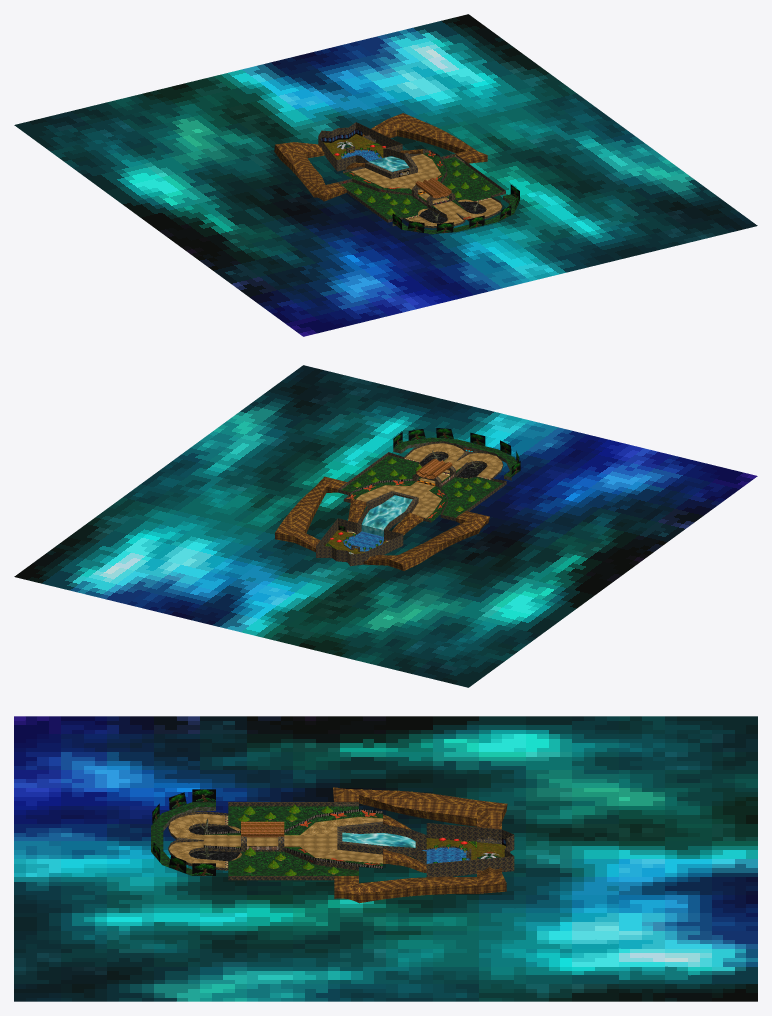
The picture shows the model from 3 angles, top to bottom: view 1: azimuth 30°, elevation 25°; view 2: azimuth 150°, elevation 25°; view 3: azimuth 270°, elevation 25°; orthographic projection. The views are drawn at different scales.
Parts seen in each view (by area): view 1: course-SKP--fondo.002, course-SKP--murocueva.001, course-SKP--pasto.001, course-SKP--muro.003, course-SKP--tierra.001, course-SKP--semiii.001, course-SKP--pastoabajo.001, course-SKP--arbol.001; view 2: course-SKP--fondo.002, course-SKP--murocueva.001, course-SKP--muro.003, course-SKP--pasto.001, course-SKP--tierra.001, course-SKP--wcascada.001, course-SKP--semiii.001; view 3: course-SKP--fondo.002, course-SKP--murocueva.001, course-SKP--muro.003, course-SKP--pasto.001, course-SKP--tierra.001, course-SKP--semiii.001, course-SKP--bardas.001, course-SKP--arbol.001, course-SKP--wcascada.001, course-SKP--pastoabajo.001, course-SKP--semi.001, course-SKP--wlodo.001 (+1 smaller).
Boxes of the visible parts, x1=… form: course-SKP--fondo.002: x1=14, y1=14, x2=757, y2=336; course-SKP--murocueva.001: x1=274, y1=113, x2=487, y2=201; course-SKP--pasto.001: x1=332, y1=142, x2=519, y2=233; course-SKP--muro.003: x1=318, y1=122, x2=505, y2=228; course-SKP--tierra.001: x1=351, y1=154, x2=501, y2=226; course-SKP--semiii.001: x1=392, y1=184, x2=519, y2=233; course-SKP--pastoabajo.001: x1=323, y1=134, x2=385, y2=159; course-SKP--arbol.001: x1=332, y1=143, x2=490, y2=214; course-SKP--fondo.002: x1=14, y1=365, x2=757, y2=687; course-SKP--murocueva.001: x1=275, y1=476, x2=489, y2=570; course-SKP--muro.003: x1=316, y1=441, x2=506, y2=566; course-SKP--pasto.001: x1=325, y1=437, x2=516, y2=554; course-SKP--tierra.001: x1=356, y1=443, x2=502, y2=518; course-SKP--wcascada.001: x1=361, y1=495, x2=412, y2=536; course-SKP--semiii.001: x1=339, y1=428, x2=520, y2=531; course-SKP--fondo.002: x1=14, y1=716, x2=757, y2=1001; course-SKP--murocueva.001: x1=333, y1=787, x2=507, y2=903; course-SKP--muro.003: x1=168, y1=802, x2=514, y2=880; course-SKP--pasto.001: x1=151, y1=802, x2=500, y2=875; course-SKP--tierra.001: x1=168, y1=813, x2=382, y2=867; course-SKP--semiii.001: x1=152, y1=789, x2=215, y2=875; course-SKP--bardas.001: x1=203, y1=809, x2=471, y2=868; course-SKP--arbol.001: x1=238, y1=804, x2=476, y2=875; course-SKP--wcascada.001: x1=342, y1=832, x2=415, y2=847; course-SKP--pastoabajo.001: x1=426, y1=838, x2=505, y2=859; course-SKP--semi.001: x1=241, y1=821, x2=284, y2=837; course-SKP--wlodo.001: x1=189, y1=826, x2=240, y2=861.
Bounding box in the file's own units: 143238 × 7600 × 157903.
27 materials, 26 textured.
